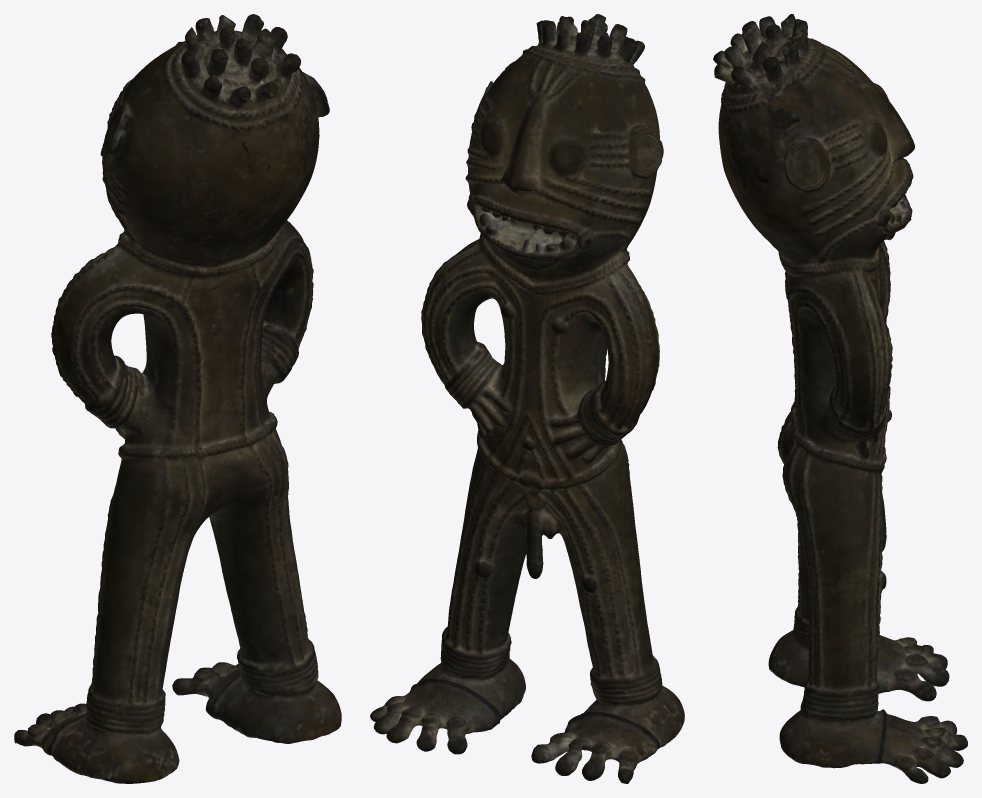
Rendered from preview.glb.
3 views of the same model, side by side, from view 1: azimuth 30°, elevation 25°; view 2: azimuth 150°, elevation 25°; view 3: azimuth 270°, elevation 25° (orthographic). The views are drawn at different scales.
Visible parts, largest first — view 1: Object_2; view 2: Object_2; view 3: Object_2.
Part boxes in pixels (x1=…): Object_2: x1=14, y1=14, x2=341, y2=783; Object_2: x1=370, y1=14, x2=684, y2=783; Object_2: x1=713, y1=14, x2=967, y2=783.
Bounding box in the file's own units: 238 × 590 × 197.
Materials: 1 (1 with a texture image).
